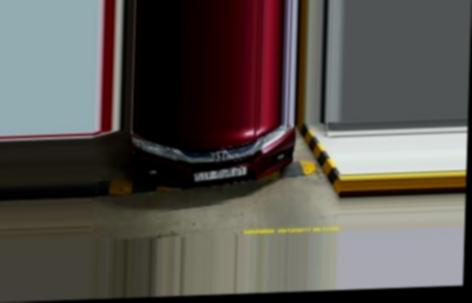License_Plate: (193, 166, 247, 182)
